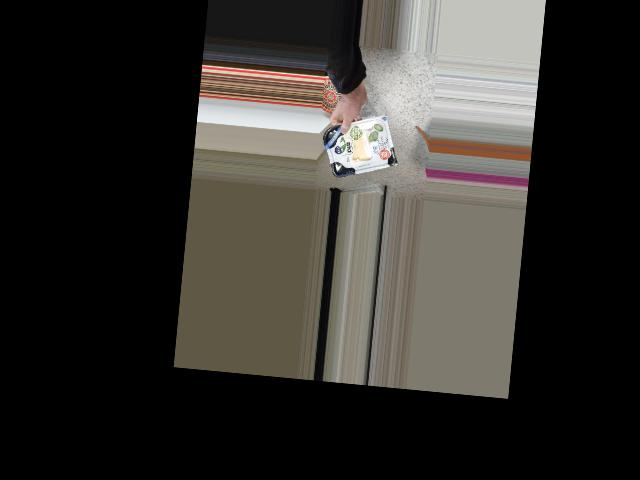cheese: (327, 120, 392, 173)
